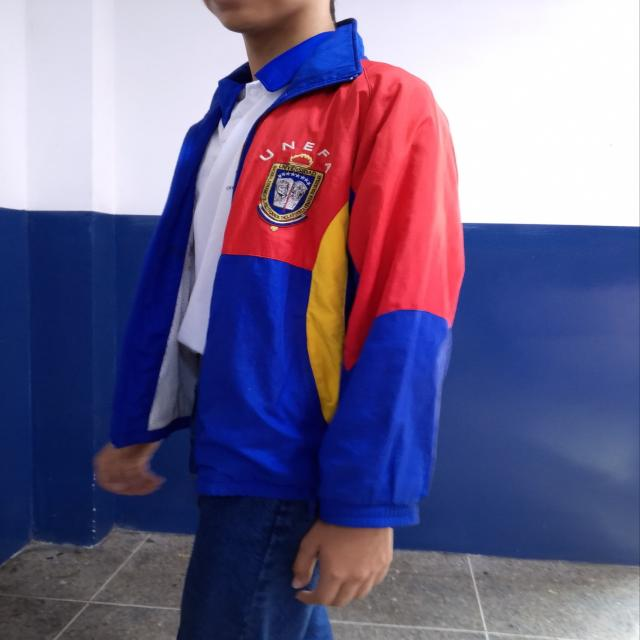chaqueta_unefa: (110, 18, 466, 529)
